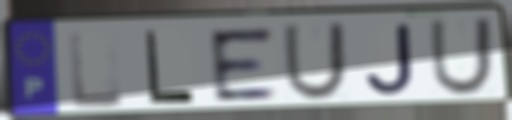E: (205, 25, 280, 104)
J: (362, 21, 417, 98)
L: (66, 29, 128, 112), (143, 28, 197, 106)
U: (281, 20, 349, 103), (427, 16, 495, 98)
